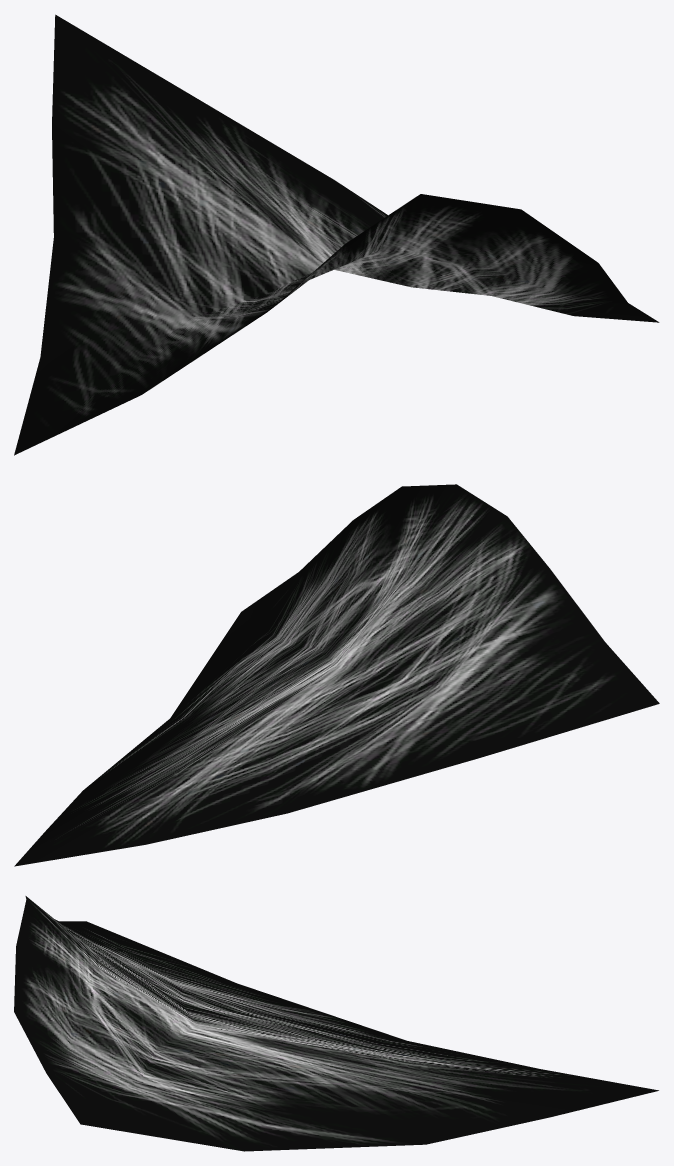
The model's file is SWORDLIGHT20_PS-AREA01_CORNERWEB22.fbx.
3 renders of one model, top to bottom at view 1: azimuth 30°, elevation 25°; view 2: azimuth 150°, elevation 25°; view 3: azimuth 270°, elevation 25°, orthographic. The views are drawn at different scales.
Parts seen in each view (by area): view 1: SWORDLIGHT20_PS-AREA01_CORNERWEB22; view 2: SWORDLIGHT20_PS-AREA01_CORNERWEB22; view 3: SWORDLIGHT20_PS-AREA01_CORNERWEB22.
Boxes of the visible parts, x1,y1,x2,y2 form: SWORDLIGHT20_PS-AREA01_CORNERWEB22: (14, 14, 659, 455); SWORDLIGHT20_PS-AREA01_CORNERWEB22: (14, 484, 659, 866); SWORDLIGHT20_PS-AREA01_CORNERWEB22: (14, 896, 658, 1151).
Bounding box in the file's own units: 43766 × 18763 × 62594.
1 material, 1 textured.
